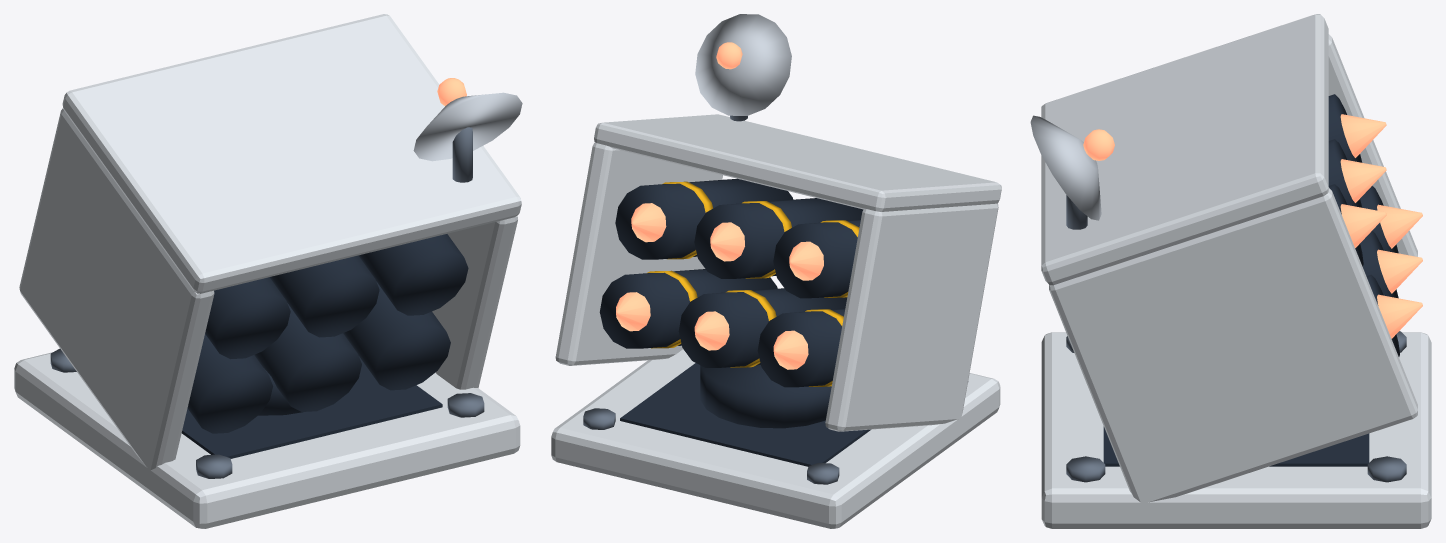
The model's file is missile.fbx.
The picture shows the model from 3 angles, left to right: view 1: azimuth 30°, elevation 25°; view 2: azimuth 150°, elevation 25°; view 3: azimuth 270°, elevation 25°; orthographic projection. The views are drawn at different scales.
Visible parts, largest first — view 1: Panel_Lid0, Panel_Frame0, Panel_Plate0.003, Inset_Inset0.003, Panel_Frame1, Inset_Tube5, Inset_Tube4, Inset_Tube2, Inset_Tube1, Inset_Tube3, Inset_Tube0, Dish_Dish0 (+5 smaller); view 2: Panel_Frame0, Panel_Plate0.003, Panel_Lid0, Panel_Frame1, Inset_Inset0.003, Dish_Dish0, Inset_Tube2, Inset_Tube1, Inset_Ring0.003, Inset_Tube5, Inset_Tube4, Inset_Tube0 (+10 smaller); view 3: Panel_Frame1, Panel_Lid0, Panel_Plate0.003, Dish_Dish0, Panel_Frame0, Inset_Inset0.003, Emit_Warhead4, Emit_Warhead1, Emit_Warhead0, Emit_Warhead2, Emit_Warhead5, Emit_Warhead3 (+8 smaller).
Boxes of the visible parts, box(x1,y1,x2,y2) form: Panel_Lid0: box(62, 14, 521, 293); Panel_Frame0: box(19, 108, 214, 470); Panel_Plate0.003: box(14, 352, 520, 528); Inset_Inset0.003: box(181, 356, 442, 458); Panel_Frame1: box(432, 215, 517, 389); Inset_Tube5: box(343, 281, 450, 390); Inset_Tube4: box(254, 303, 361, 411); Inset_Tube2: box(358, 234, 468, 315); Inset_Tube1: box(269, 255, 379, 337); Inset_Tube3: box(187, 334, 272, 433); Inset_Tube0: box(205, 277, 290, 359); Dish_Dish0: box(413, 92, 522, 161); Panel_Frame0: box(825, 203, 998, 431); Panel_Plate0.003: box(551, 349, 1000, 528); Panel_Lid0: box(594, 114, 1001, 211); Panel_Frame1: box(555, 142, 722, 365); Inset_Inset0.003: box(620, 363, 870, 466); Dish_Dish0: box(695, 14, 791, 115); Inset_Tube2: box(615, 178, 793, 259); Inset_Tube1: box(694, 198, 863, 278); Inset_Ring0.003: box(700, 365, 831, 428); Inset_Tube5: box(599, 269, 777, 348); Inset_Tube4: box(678, 288, 847, 367); Inset_Tube0: box(773, 219, 860, 298); Panel_Frame1: box(1049, 187, 1417, 502); Panel_Lid0: box(1041, 14, 1328, 285); Panel_Plate0.003: box(1041, 332, 1431, 528); Dish_Dish0: box(1030, 115, 1101, 220); Panel_Frame0: box(1328, 34, 1417, 256); Inset_Inset0.003: box(1103, 426, 1369, 466); Emit_Warhead4: box(1377, 249, 1422, 293); Emit_Warhead1: box(1340, 159, 1386, 202); Emit_Warhead0: box(1340, 114, 1386, 157); Emit_Warhead2: box(1340, 204, 1386, 247); Emit_Warhead5: box(1377, 294, 1422, 338); Emit_Warhead3: box(1377, 204, 1422, 248).
Bounding box in the file's own units: 0.45 × 0.4524 × 0.4837.
